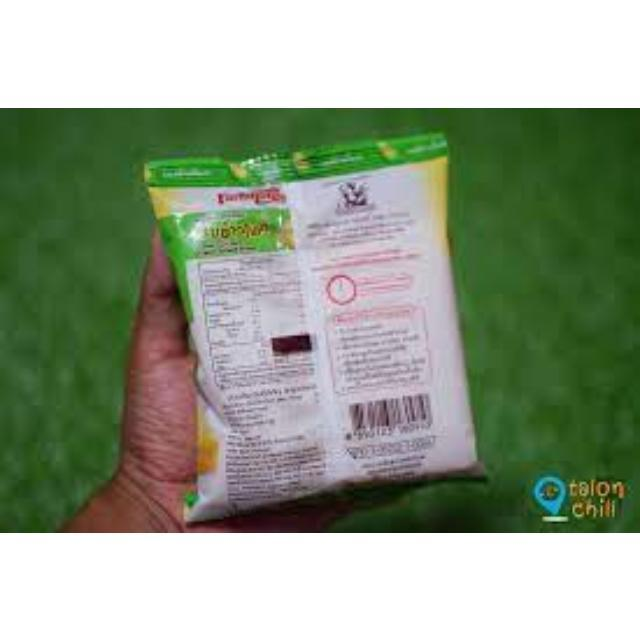Bolsa-de-plastico: (142, 130, 493, 523)
